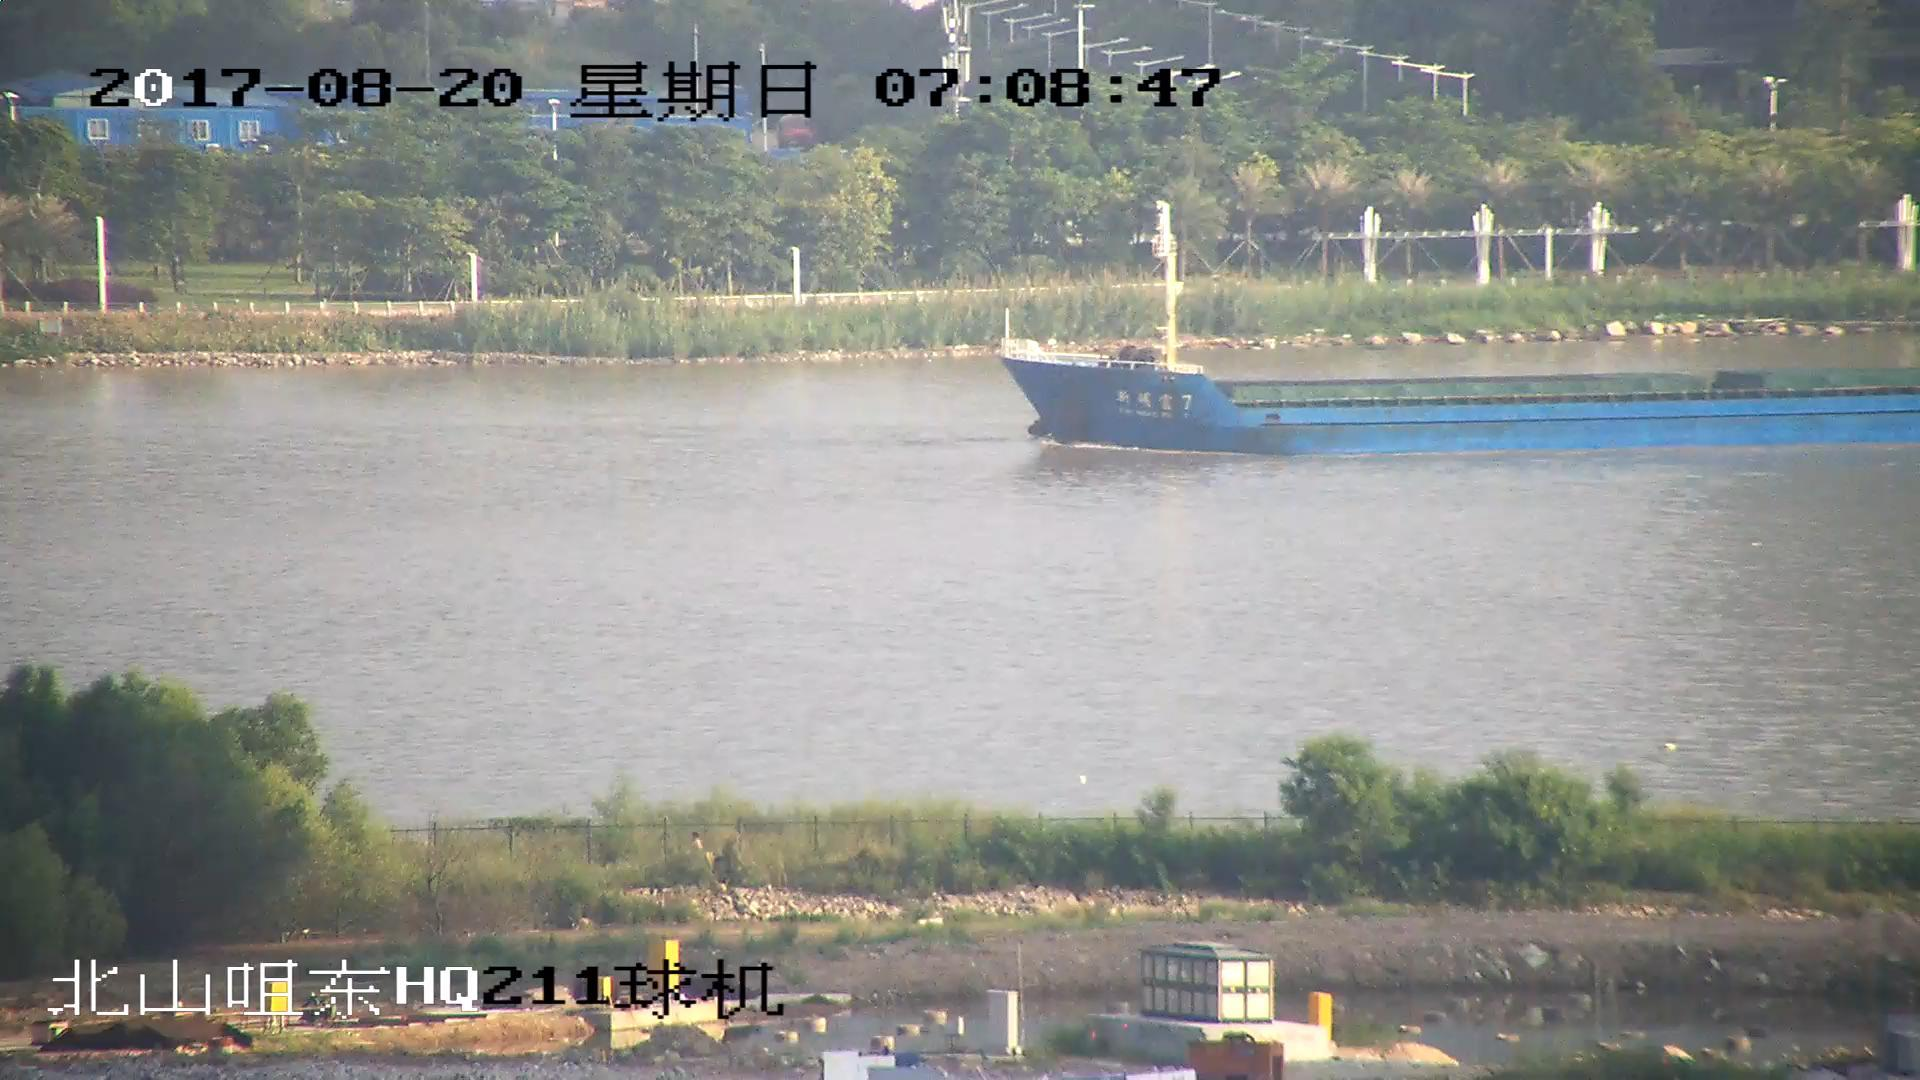Ship: (994, 229, 1920, 462)
